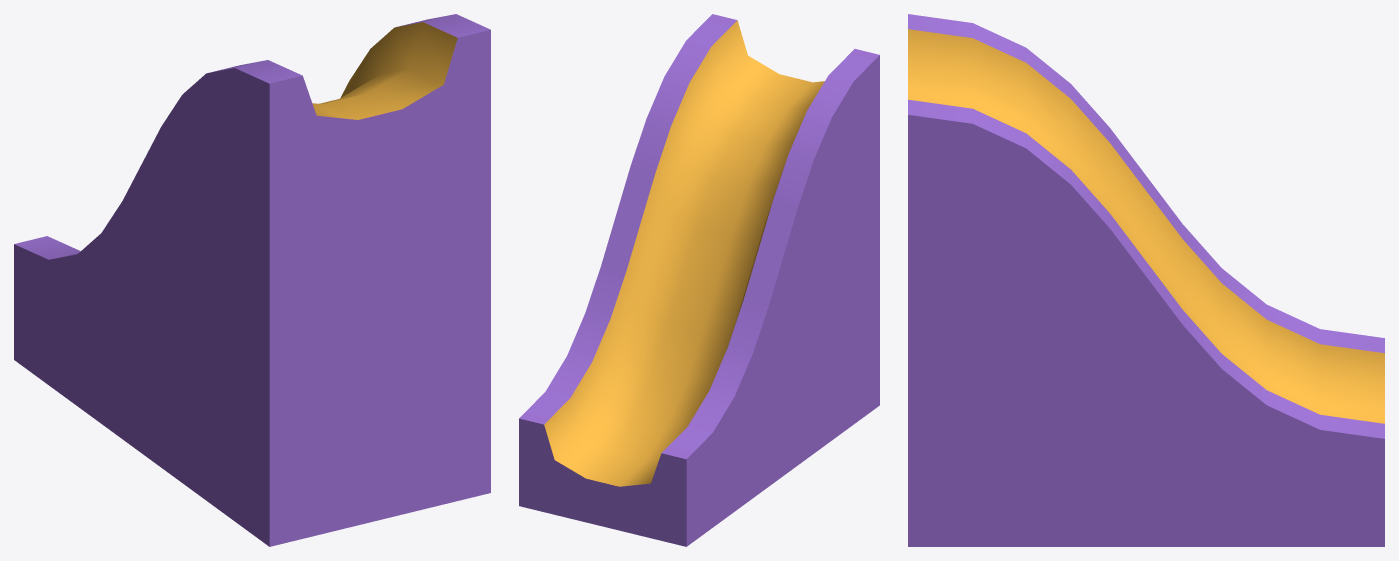
The model's file is ramp-long-solid-d.glb.
The picture shows the model from 3 angles, left to right: view 1: azimuth 30°, elevation 25°; view 2: azimuth 150°, elevation 25°; view 3: azimuth 270°, elevation 25°; orthographic projection. The views are drawn at different scales.
Visible parts, largest first — view 1: ramp-long-solid-d; view 2: ramp-long-solid-d; view 3: ramp-long-solid-d.
Part boxes in pixels (bbox=[...]): ramp-long-solid-d: bbox=[14, 14, 490, 546]; ramp-long-solid-d: bbox=[519, 14, 879, 546]; ramp-long-solid-d: bbox=[908, 14, 1384, 546].
Bounding box in the file's own units: 1 × 2 × 2.
Materials: 1 (1 with a texture image).
